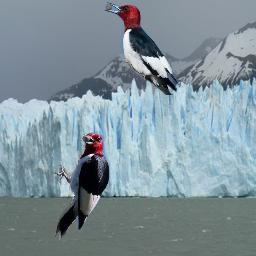Woodpecker: (103, 0, 181, 95), (51, 126, 111, 243)
